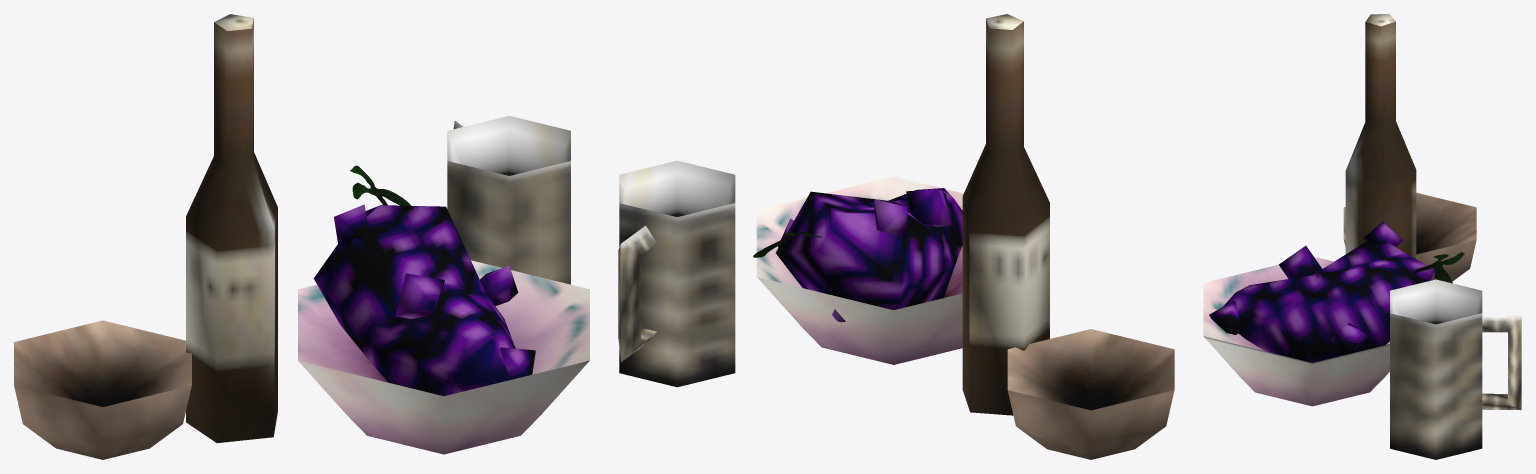
3 renders of one model, left to right at view 1: azimuth 30°, elevation 25°; view 2: azimuth 150°, elevation 25°; view 3: azimuth 270°, elevation 25°, orthographic. The views are drawn at different scales.
Visible parts, largest first — view 1: a48; view 2: a48; view 3: a48.
Boxes of the visible parts, <box> form: a48: <box>14,14,589,459</box>; a48: <box>618,14,1174,459</box>; a48: <box>1203,14,1521,459</box>.
Size of the model in its own units: 232 by 157 by 149.
